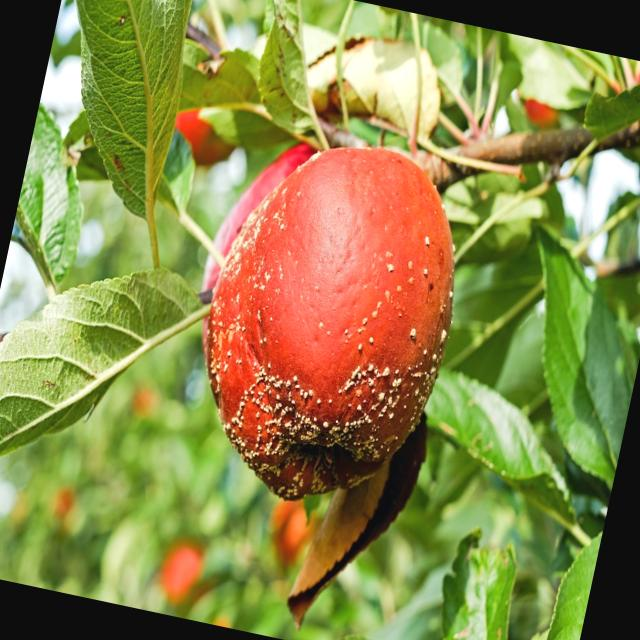apple: (174, 126, 486, 534)
